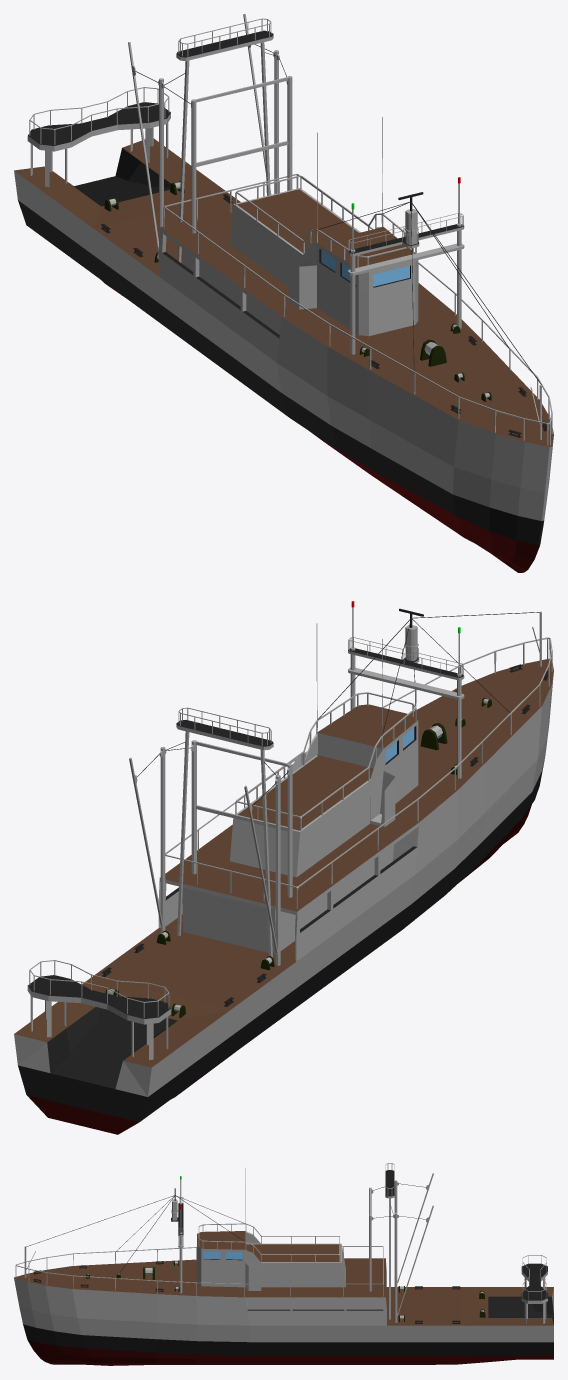
The model's file is Boatlvl5_V1.1.fbx.
3 renders of one model, top to bottom at view 1: azimuth 30°, elevation 25°; view 2: azimuth 150°, elevation 25°; view 3: azimuth 270°, elevation 25°, orthographic. The views are drawn at different scales.
Parts seen in each view (by area): view 1: Cube, back mount, front antennas, front fences, Cube.001, Cylinder.008, top fences, post, post2, back fences, Vert.002; view 2: Cube, back mount, front antennas, Cube.001, Cylinder.008, front fences, top fences, post, post2, back fences; view 3: Cube, front fences, back mount, post2, front antennas, top fences, Cube.001, Vert.002, post, Cylinder.008.
Part boxes in pixels (<box>): Cube: <box>14,138,553,572</box>; back mount: <box>27,102,170,187</box>; front antennas: <box>348,177,464,354</box>; front fences: <box>163,174,552,445</box>; Cube.001: <box>176,30,273,262</box>; Cylinder.008: <box>191,76,292,233</box>; top fences: <box>235,117,416,267</box>; post: <box>128,42,164,253</box>; post2: <box>243,14,279,194</box>; back fences: <box>29,87,169,145</box>; Vert.002: <box>318,202,541,384</box>; Cube: <box>14,658,553,1134</box>; back mount: <box>27,975,170,1060</box>; front antennas: <box>348,601,464,778</box>; Cube.001: <box>176,720,273,957</box>; Cylinder.008: <box>191,740,292,897</box>; front fences: <box>165,637,552,909</box>; top fences: <box>235,623,416,830</box>; post: <box>244,775,281,965</box>; post2: <box>129,746,166,933</box>; back fences: <box>29,960,169,1017</box>; Cube: <box>14,1231,553,1365</box>; front fences: <box>15,1246,383,1296</box>; back mount: <box>521,1263,547,1323</box>; post2: <box>393,1205,433,1322</box>; front antennas: <box>171,1176,183,1293</box>; top fences: <box>198,1168,339,1262</box>; Cube.001: <box>385,1170,394,1319</box>; Vert.002: <box>26,1195,245,1277</box>; post: <box>394,1173,433,1283</box>; Cylinder.008: <box>369,1187,373,1291</box>.
Bounding box in the file's own units: 482 × 1099 × 2832.
